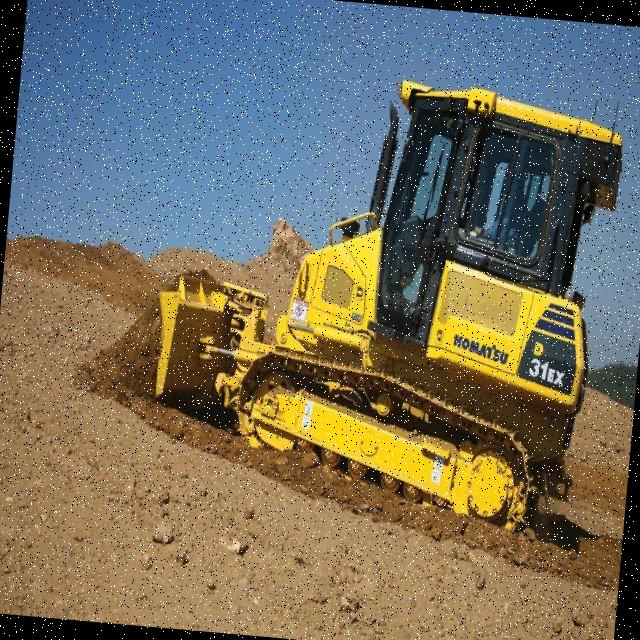Bulldozer: (72, 0, 640, 565)
